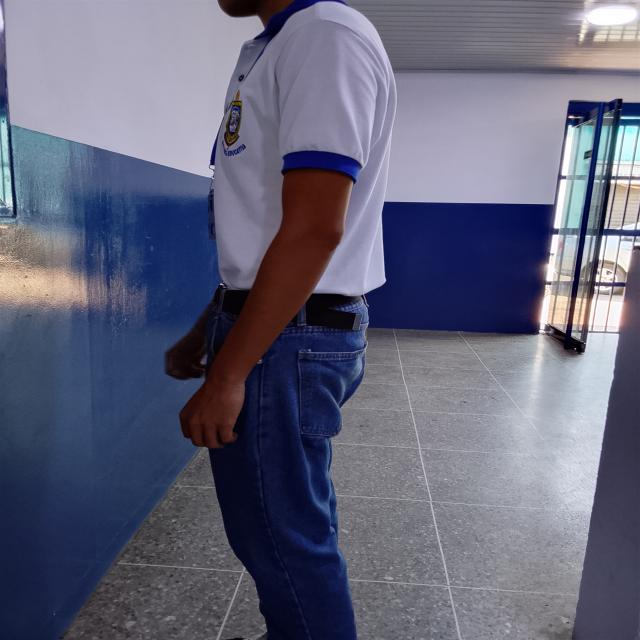carnet: (206, 193, 218, 239)
uniforme_superior: (212, 0, 398, 297)
